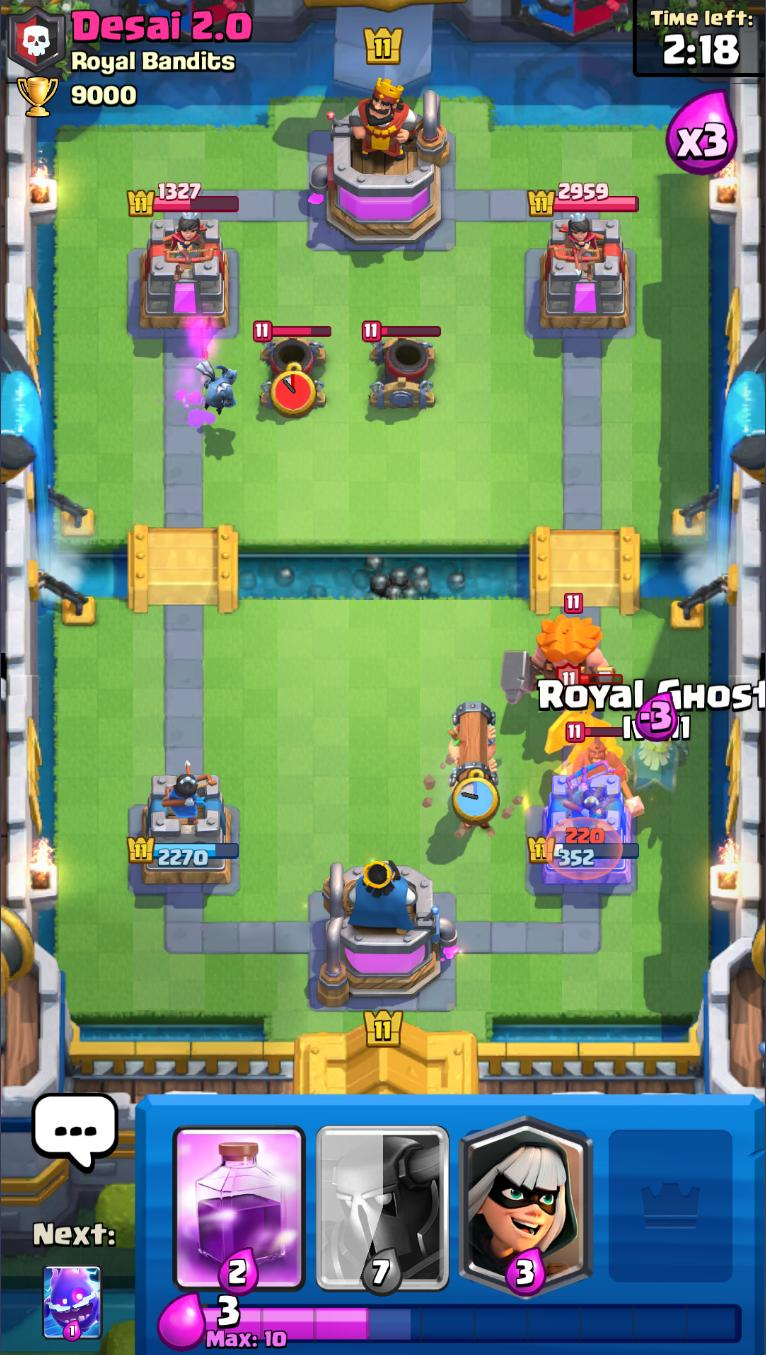BanditDeck: (455, 1099, 598, 1295)
DarkPrince: (546, 666, 625, 772)
ElectroSpiritNext: (41, 1262, 105, 1343)
Elixir: (203, 1296, 744, 1351)
Empty: (597, 1097, 742, 1298)
EnemyTower: (135, 216, 234, 331), (537, 216, 633, 333)
Hog: (564, 722, 652, 786)
KingTower: (307, 78, 453, 247)
Mortar: (249, 318, 331, 412), (362, 319, 442, 413)
MyBattleRam: (446, 701, 502, 840)
MyKingTower: (315, 859, 460, 1009)
MyMinion: (196, 360, 241, 414)
MyPrincessTower: (526, 770, 641, 890), (128, 772, 242, 890)
MyPrincessTowerHP: (127, 836, 241, 869), (525, 835, 641, 867)
PekkaDeck: (312, 1101, 453, 1296)
RageDeck: (166, 1096, 312, 1295)
RuneGiant: (501, 592, 615, 704)
TowerPrincessHP: (528, 182, 640, 219), (128, 182, 241, 218)
